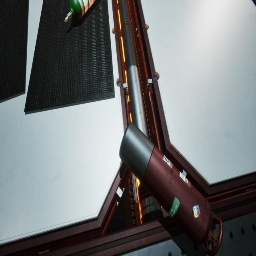0: (64, 0, 96, 22)
NitrogenTank ,: (119, 122, 223, 256)
